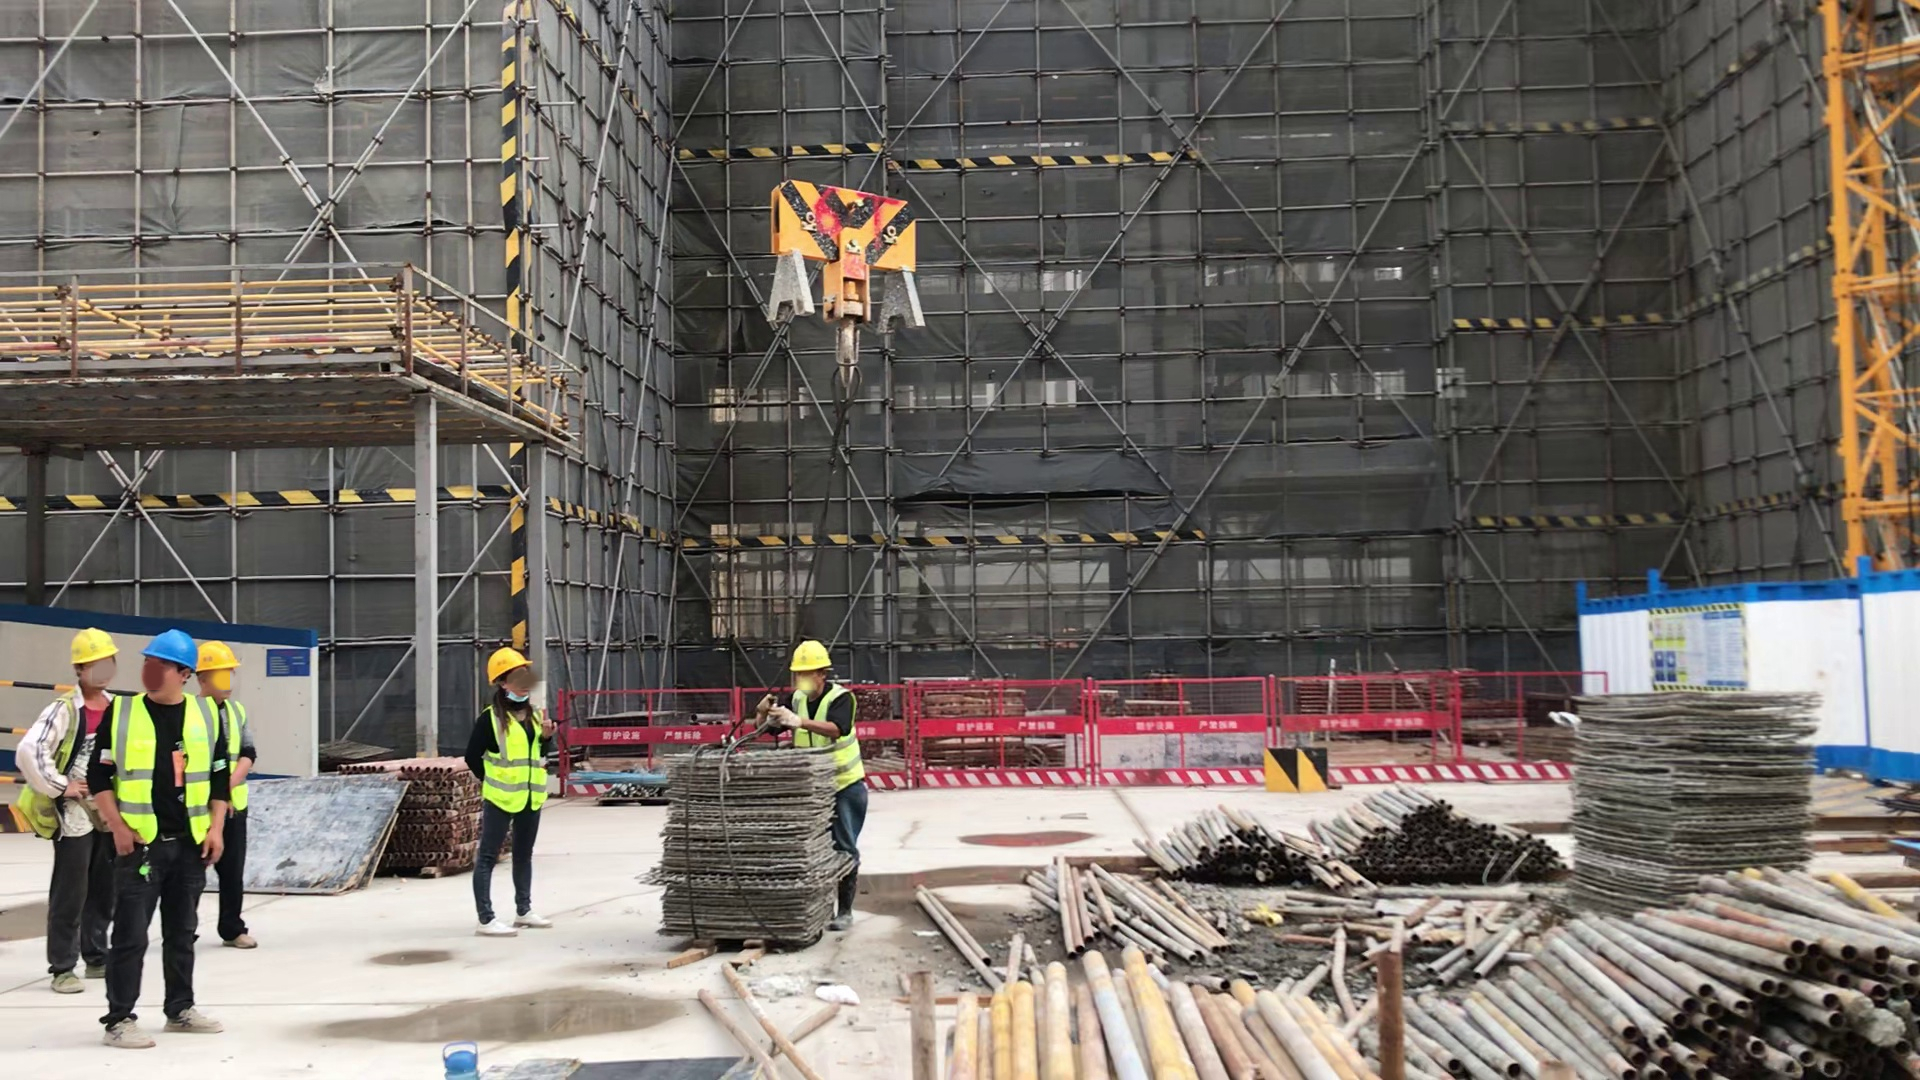fence: (555, 672, 1608, 791)
helmet: (144, 624, 194, 669), (71, 624, 120, 666), (786, 638, 831, 674), (486, 646, 529, 681), (193, 642, 239, 672)
hook: (762, 176, 924, 389)
person: (88, 628, 222, 1050), (17, 629, 133, 995), (752, 645, 866, 931), (464, 647, 559, 937), (182, 641, 259, 952)
scaffold: (1562, 691, 1811, 910), (667, 757, 828, 942), (401, 760, 488, 873)
vest: (115, 692, 215, 847), (782, 683, 866, 789), (485, 703, 547, 812), (211, 700, 251, 808)
